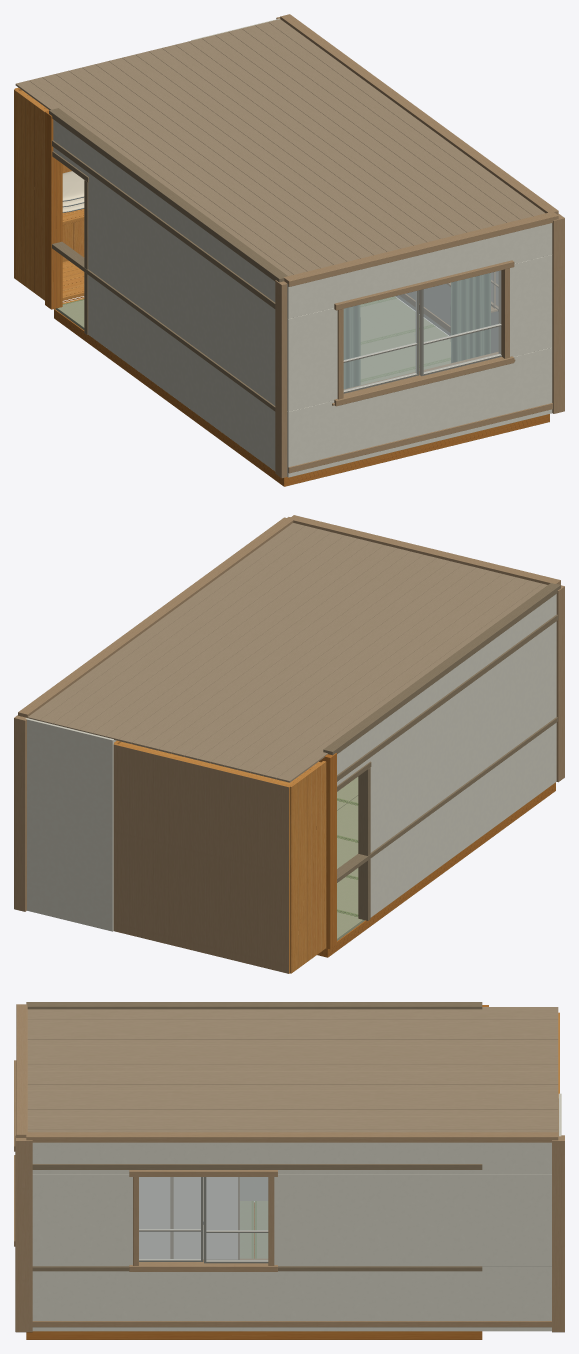
The model's file is interiors-v3.glb.
The picture shows the model from 3 angles, top to bottom: view 1: azimuth 30°, elevation 25°; view 2: azimuth 150°, elevation 25°; view 3: azimuth 270°, elevation 25°; orthographic projection.
Parts seen in each view (by area): view 1: hero_ceiling, hero_front, hero_shell, hero_floor, hero_closet; view 2: hero_ceiling, hero_closet, hero_shell, hero_floor, hero_front; view 3: hero_shell, hero_ceiling, hero_floor, hero_front.
Part boxes in pixels (x1,y1,x2,y2): hero_ceiling: (15, 19, 545, 275); hero_front: (284, 212, 564, 477); hero_shell: (45, 14, 558, 478); hero_floor: (54, 296, 549, 486); hero_closet: (14, 18, 279, 302); hero_ceiling: (27, 523, 547, 782); hero_closet: (25, 718, 326, 973); hero_shell: (14, 517, 564, 949); hero_floor: (317, 777, 555, 957); hero_front: (287, 515, 560, 584); hero_shell: (26, 1002, 564, 1332); hero_ceiling: (27, 1007, 558, 1132); hero_floor: (26, 1201, 482, 1339); hero_front: (14, 1004, 28, 1332).
Bounding box in the file's own units: 3.82 × 2.71 × 6.52.
Materials: 20 (10 with a texture image).
